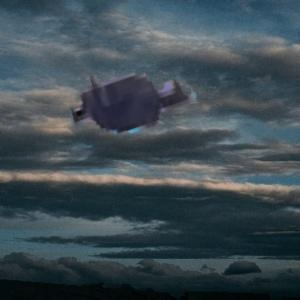drone: (33, 11, 219, 197)
